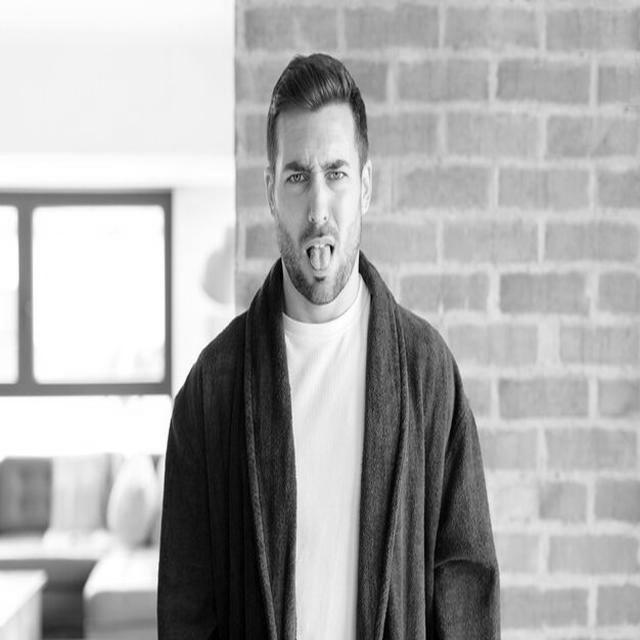Disgust: (275, 103, 360, 304)
